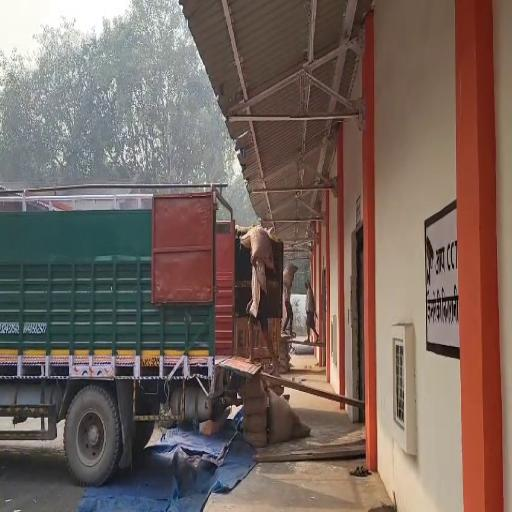bag: (239, 225, 279, 274)
